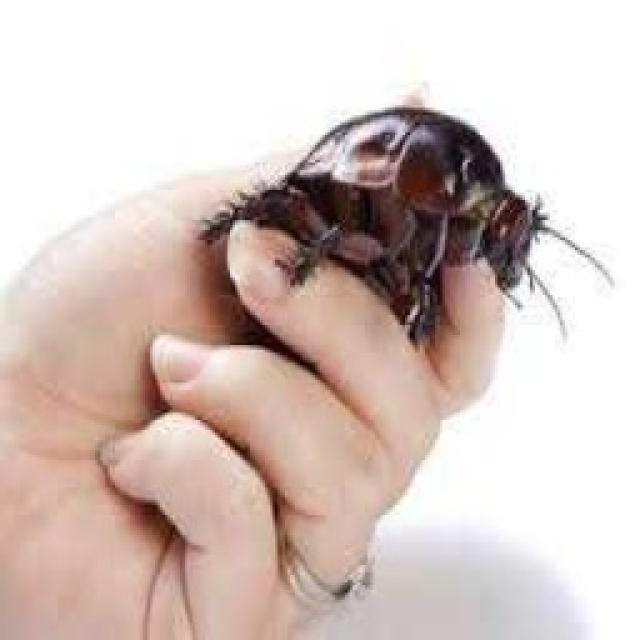cockroach: (194, 102, 562, 352)
